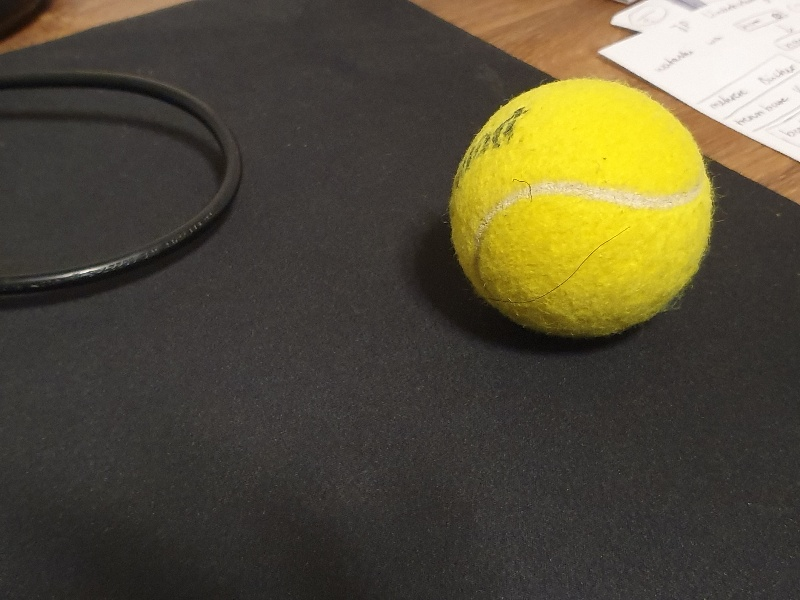Tennisball: (434, 59, 733, 367)
